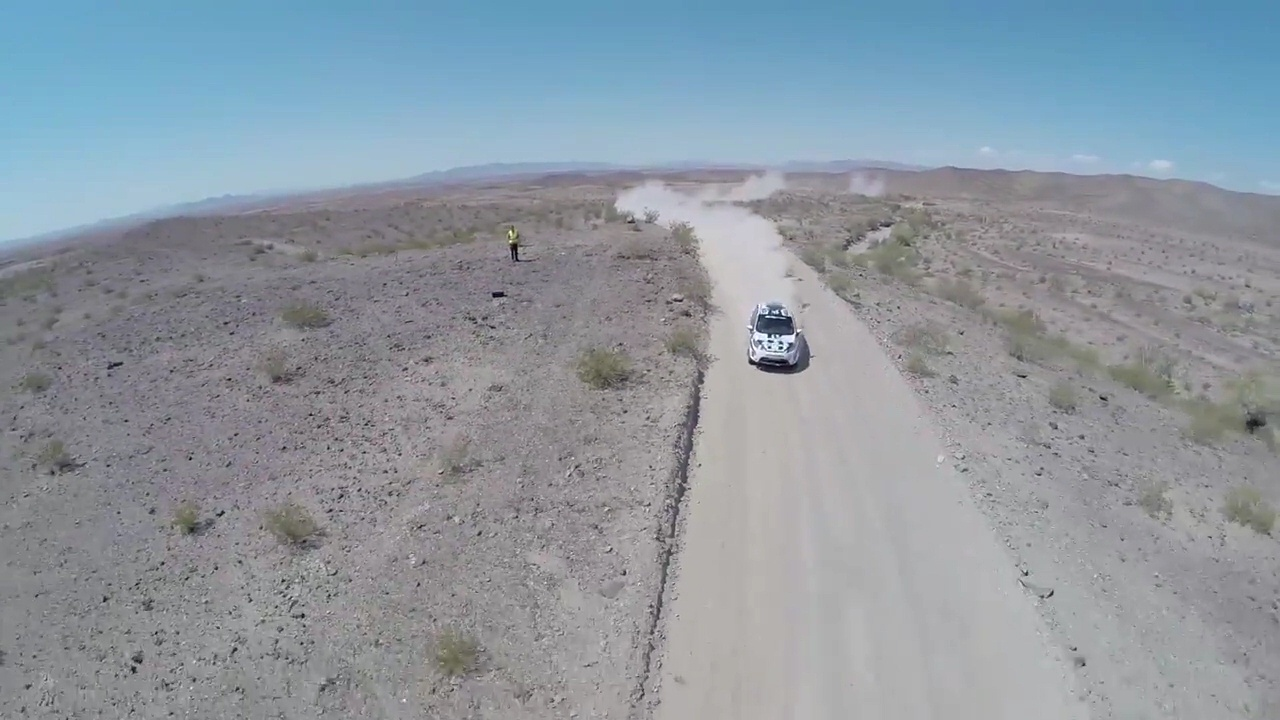araba: (745, 298, 804, 372), (506, 222, 522, 263)
